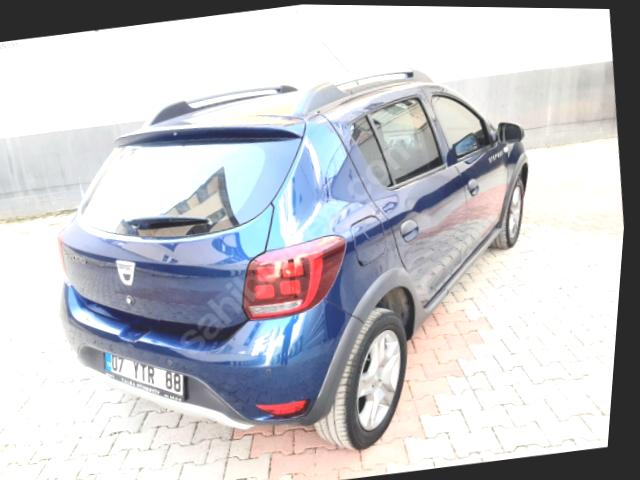plaka: (104, 352, 186, 400)
